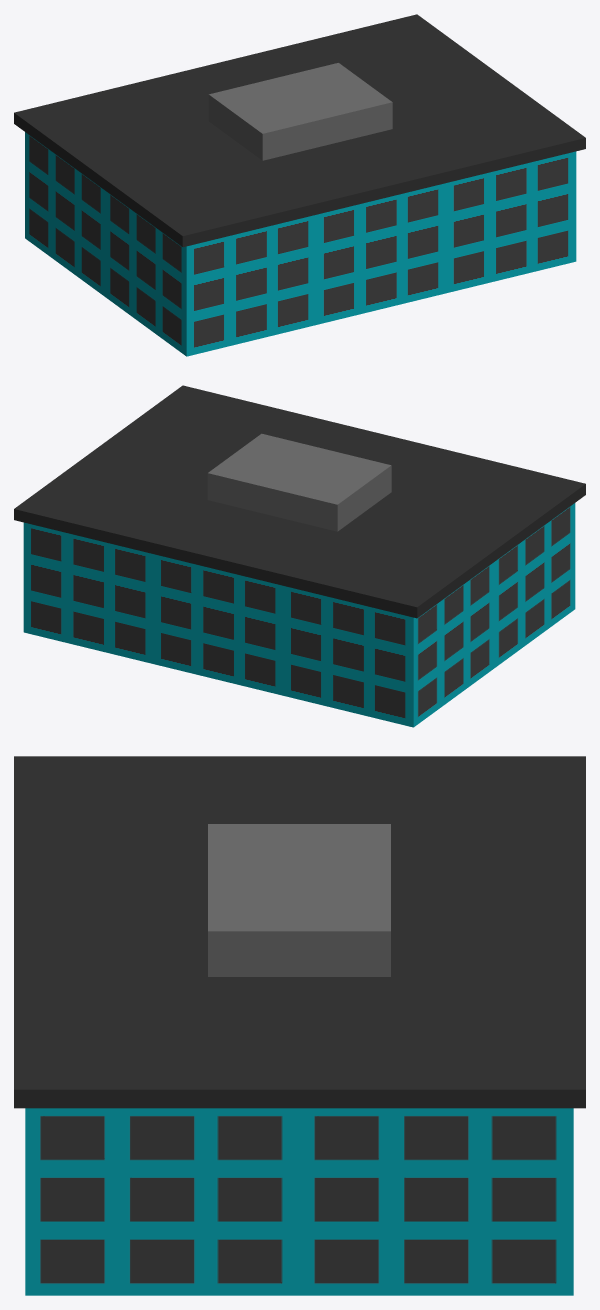
File: Building 07.FBX
The picture shows the model from 3 angles, top to bottom: view 1: azimuth 30°, elevation 25°; view 2: azimuth 150°, elevation 25°; view 3: azimuth 270°, elevation 25°; orthographic projection. The views are drawn at different scales.
Parts seen in each view (by area): view 1: Box001; view 2: Box001; view 3: Box001.
Boxes of the visible parts, bbox=[...] form: Box001: bbox=[14, 14, 585, 356]; Box001: bbox=[14, 385, 585, 727]; Box001: bbox=[14, 756, 585, 1295].
Size of the model in its own units: 68.97 by 24.78 by 50.02.
